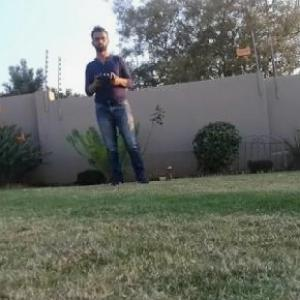follow: (83, 18, 156, 190)
